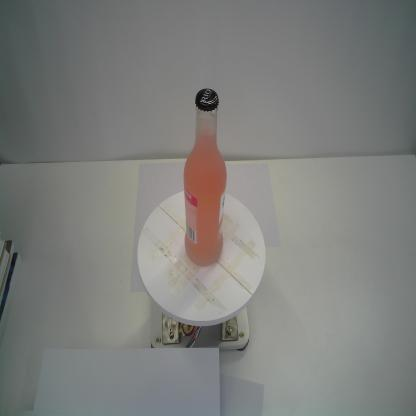Alcohol: (181, 86, 228, 270)
